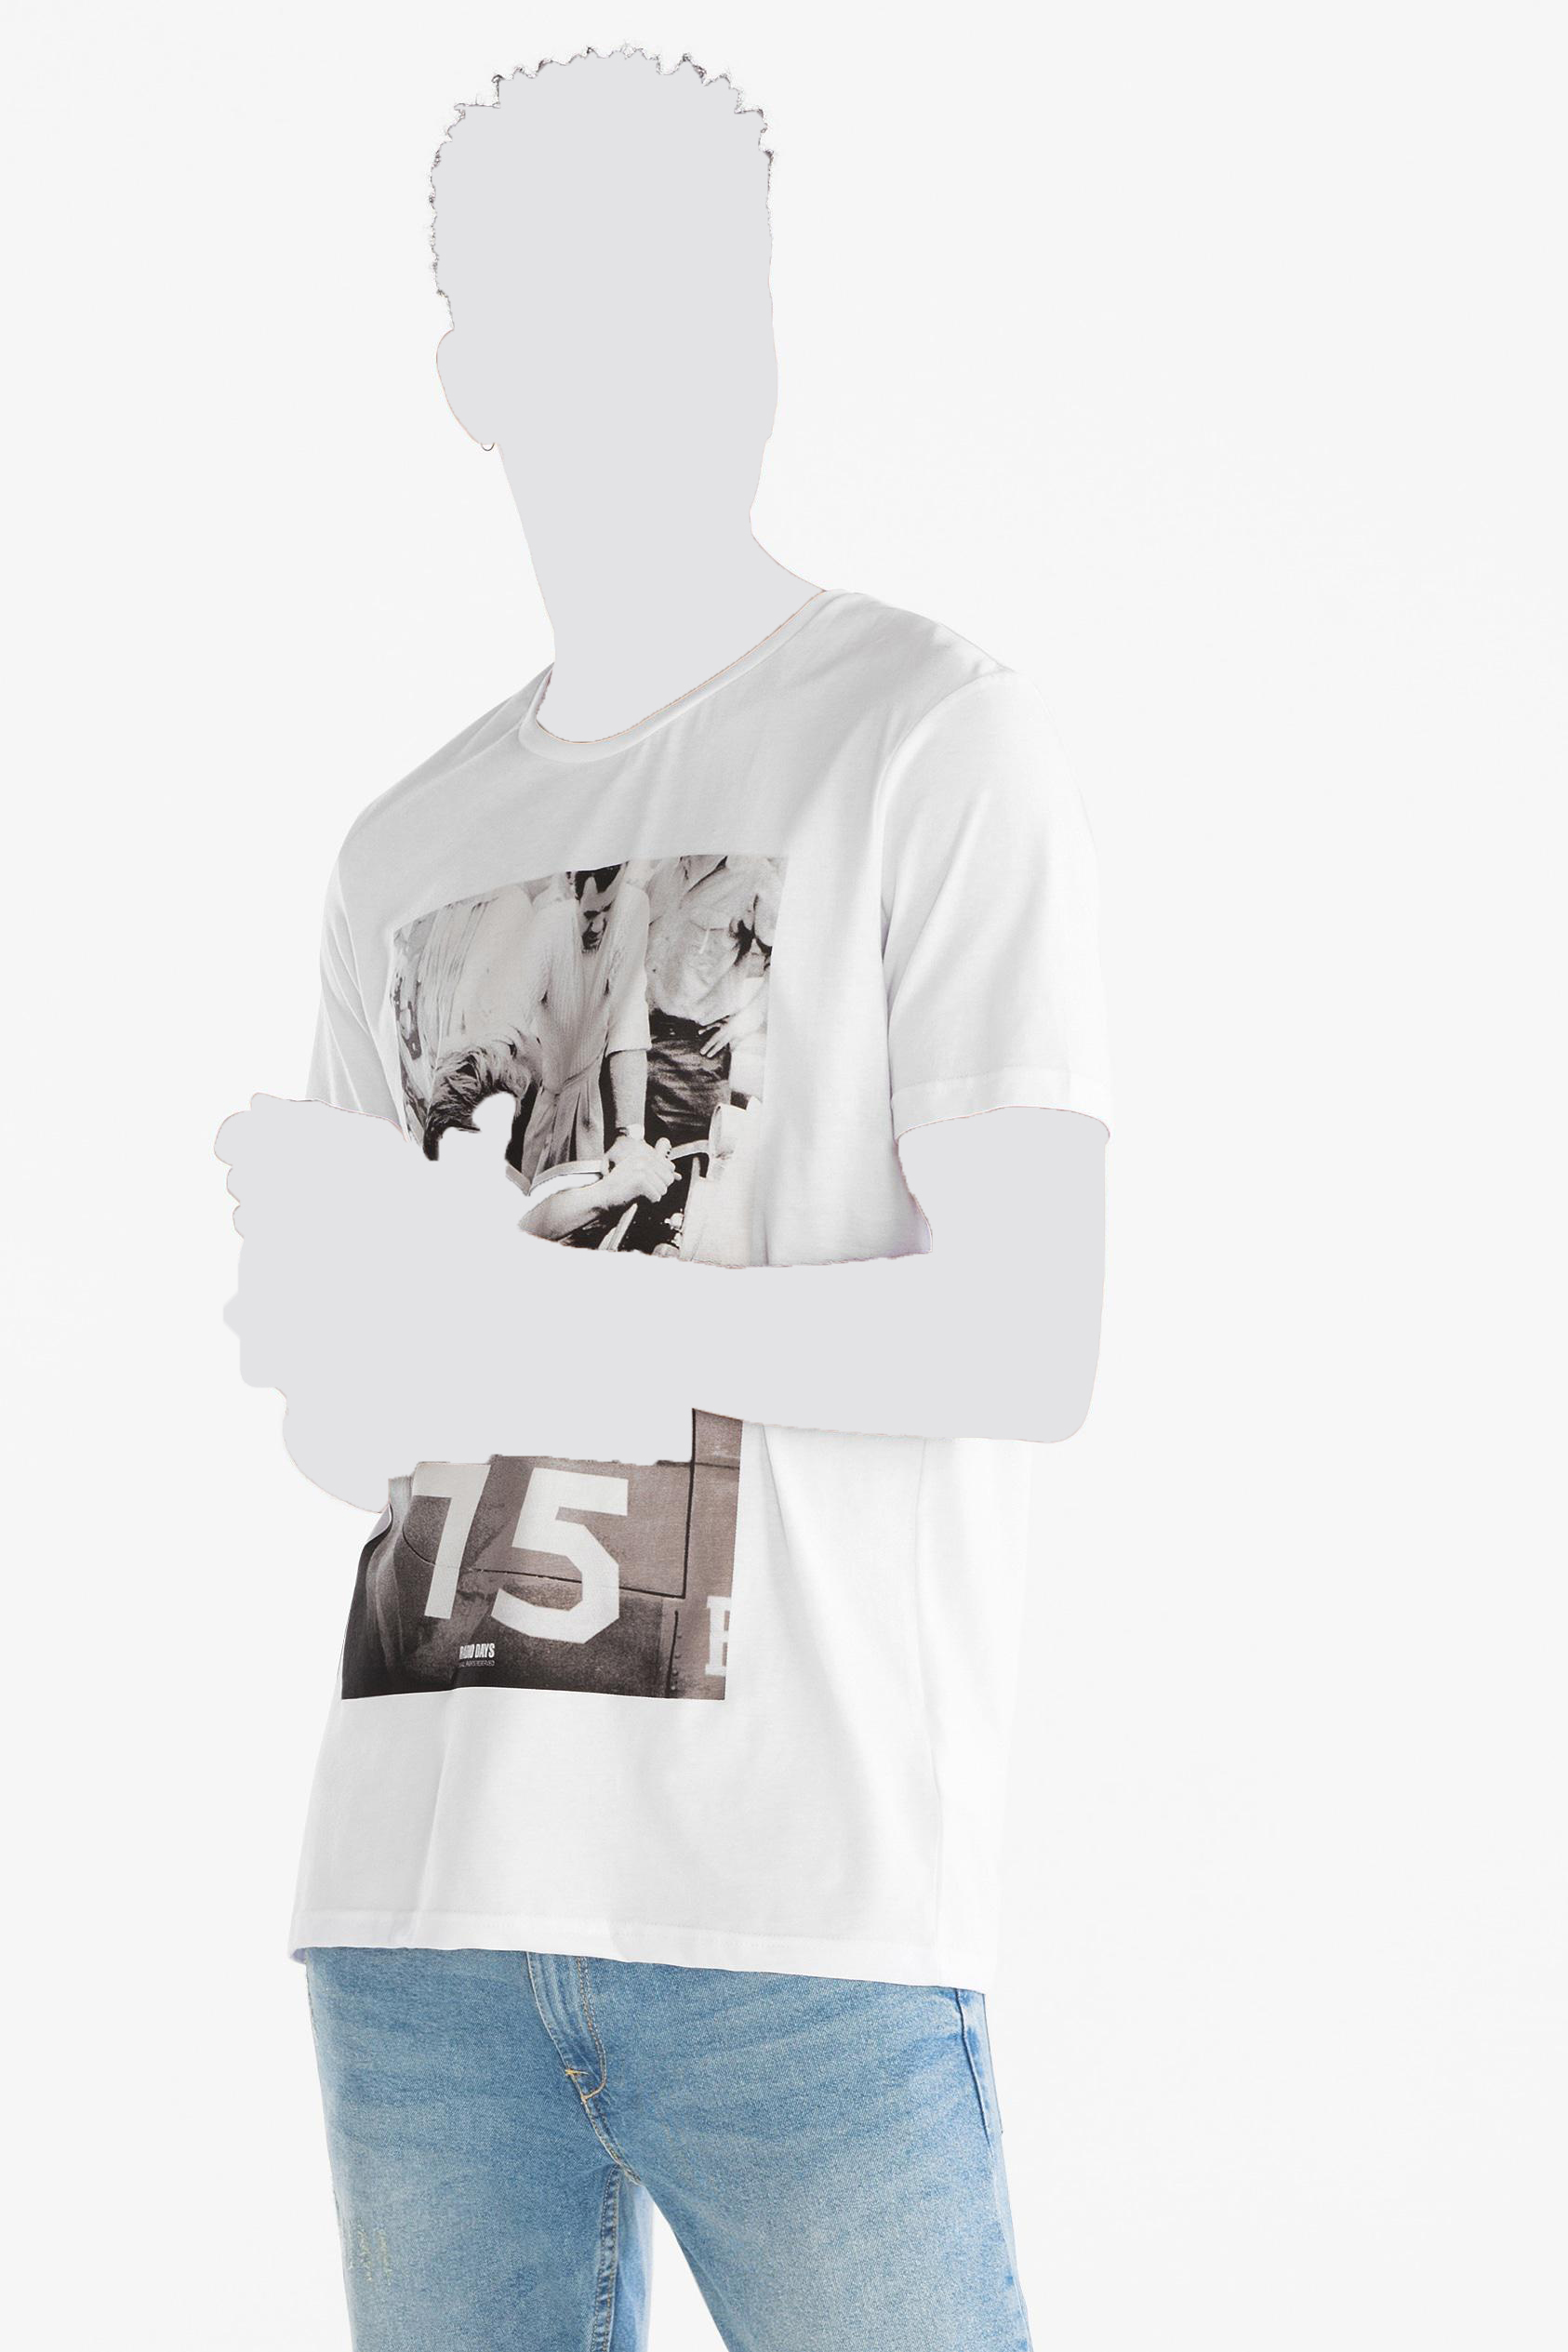teeshirt: (259, 584, 1136, 2037)
